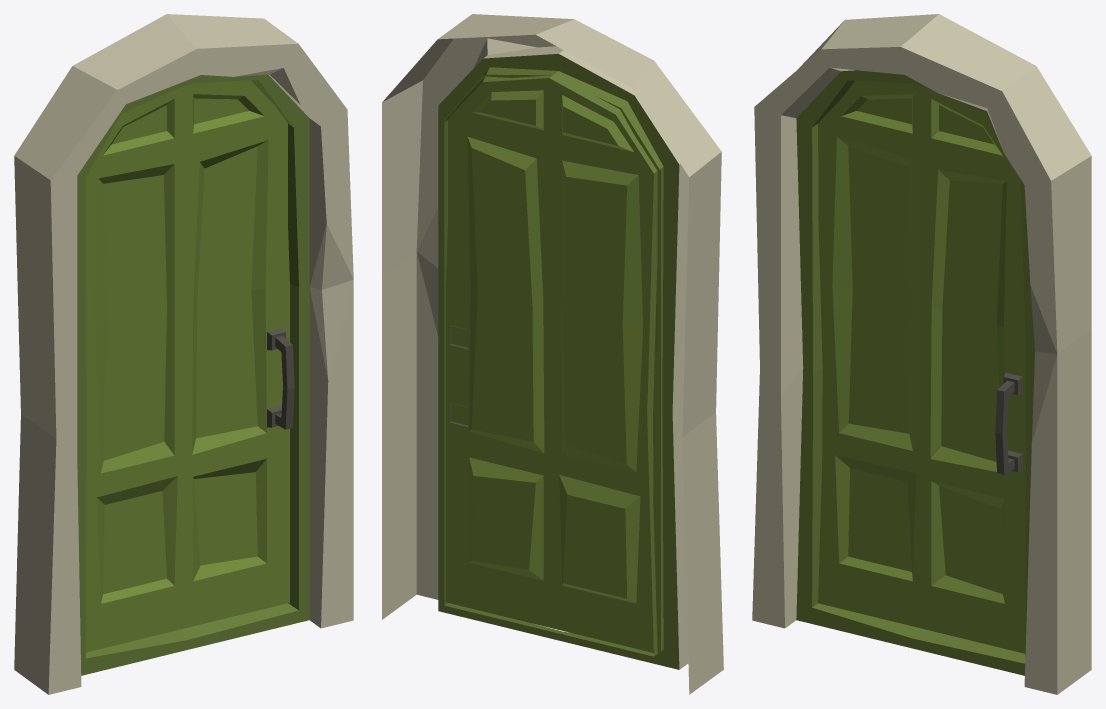
Rendered from Door_5.fbx.
The picture shows the model from 3 angles, left to right: view 1: azimuth 30°, elevation 25°; view 2: azimuth 150°, elevation 25°; view 3: azimuth 330°, elevation 25°; orthographic projection.
Parts seen in each view (by area): view 1: Door_5; view 2: Door_5; view 3: Door_5.
Part boxes in pixels (bbox=[...]): Door_5: bbox=[14, 14, 353, 694]; Door_5: bbox=[382, 14, 723, 694]; Door_5: bbox=[752, 14, 1091, 694].
Bounding box in the file's own units: 133 × 258 × 26.02.
